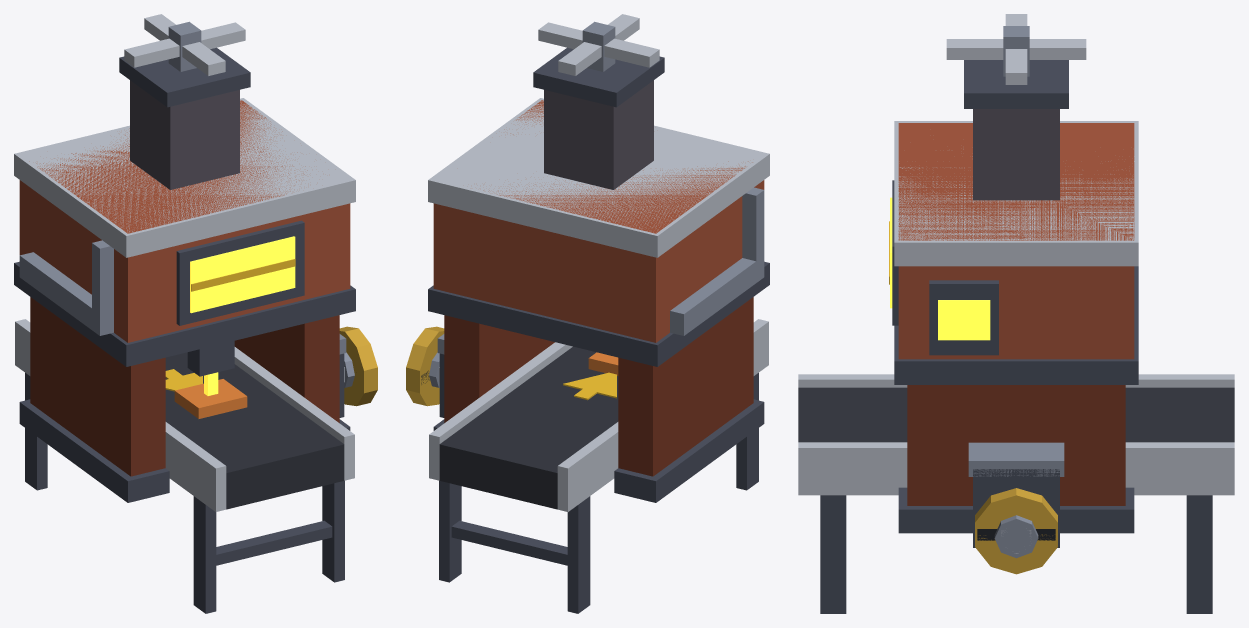
File: furnace.glb
3 renders of one model, left to right at view 1: azimuth 30°, elevation 25°; view 2: azimuth 150°, elevation 25°; view 3: azimuth 270°, elevation 25°, orthographic. The views are drawn at different scales.
Parts seen in each view (by area): view 1: furnace, spin-up, spin-x; view 2: furnace, spin-up, spin-x; view 3: furnace, spin-x, spin-up.
Boxes of the visible parts, x1=… form: furnace: x1=14, y1=47, x2=355, y2=613; spin-up: x1=124, y1=14, x2=245, y2=75; spin-x: x1=339, y1=326, x2=377, y2=406; furnace: x1=428, y1=47, x2=769, y2=613; spin-up: x1=538, y1=14, x2=659, y2=75; spin-x: x1=406, y1=326, x2=444, y2=406; furnace: x1=798, y1=60, x2=1234, y2=613; spin-x: x1=975, y1=488, x2=1057, y2=574; spin-up: x1=946, y1=14, x2=1086, y2=84.
Bounding box in the file's own units: 0.88 × 1.38 × 1.
3 materials, 3 textured.
